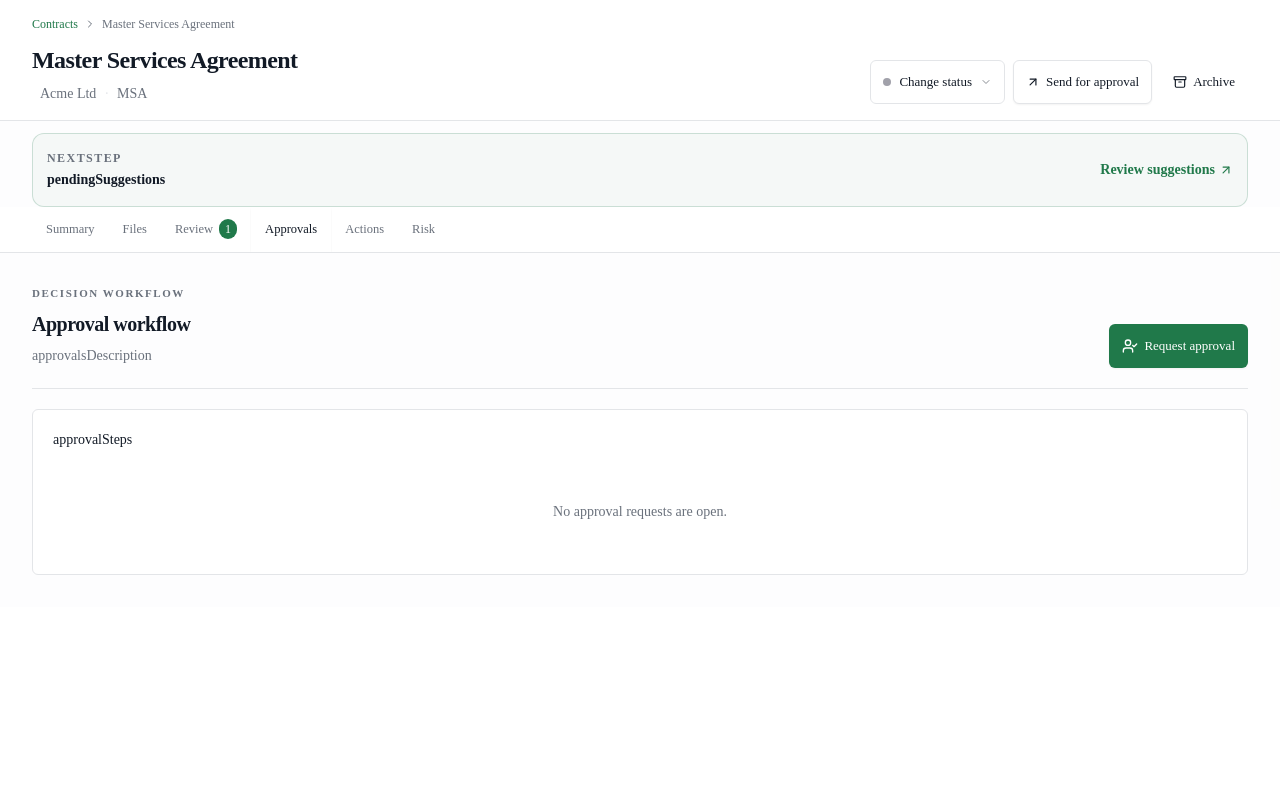
Test: contract workspace responsive hierarchy › uses the workspace locale contract inside the approval request dialog
Click the button "Request approval" at (1179, 346), box [1109,324,1248,368]
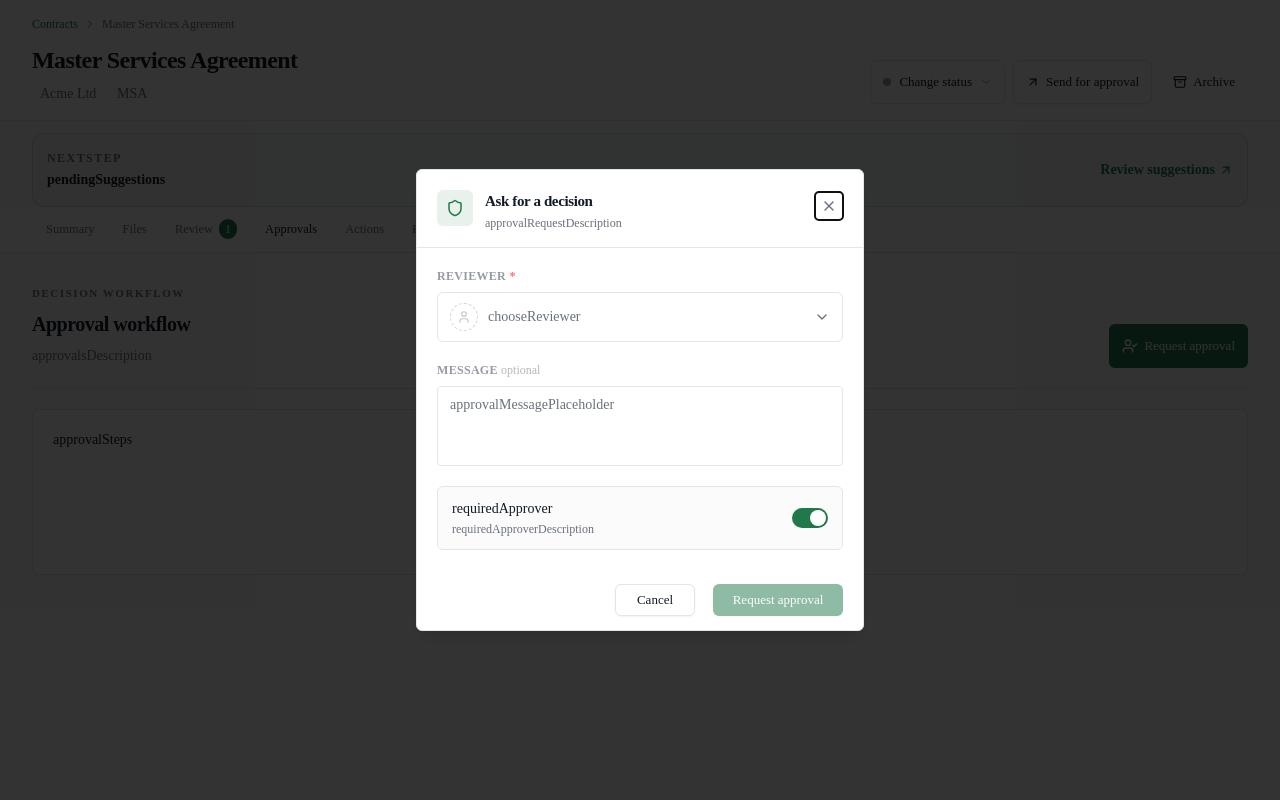
Now the heading "Ask for a decision" is shown, box [485,193,593,209]
